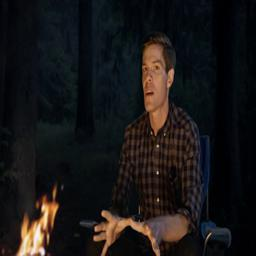fire: (15, 185, 58, 256)
